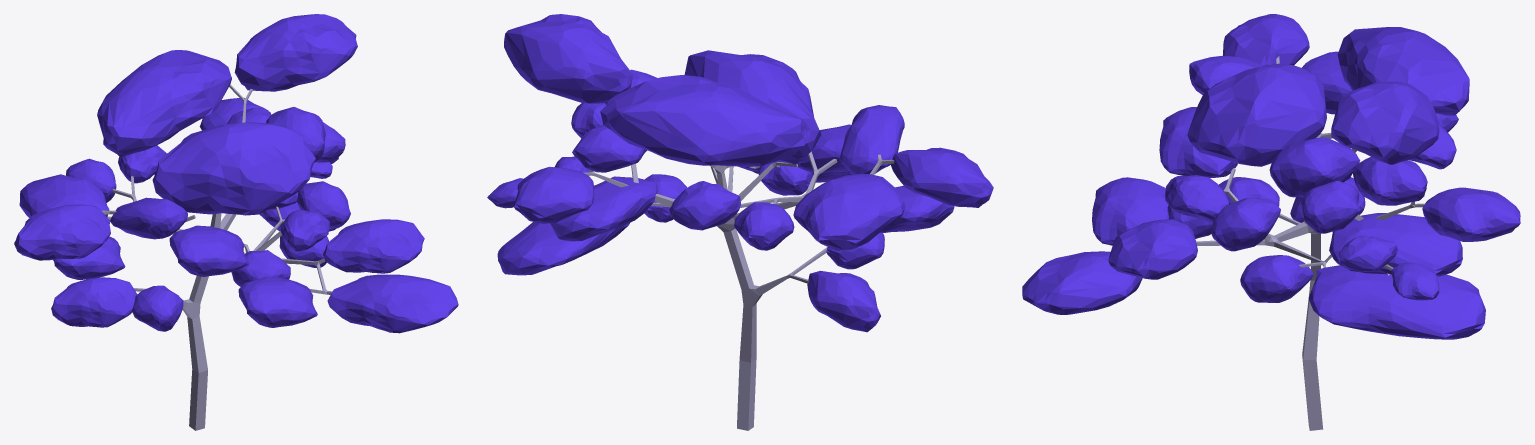
Rendered from LowPolyLavenderOak1.fbx.
3 renders of one model, left to right at view 1: azimuth 30°, elevation 25°; view 2: azimuth 150°, elevation 25°; view 3: azimuth 270°, elevation 25°, orthographic. The views are drawn at different scales.
Parts seen in each view (by area): view 1: Icosphere.030, Icosphere.039, Icosphere.031, Icosphere.029, Icosphere.040, Icosphere.043, Cube.001, Icosphere.008, Icosphere.032, Icosphere.041, Icosphere.050, Icosphere.044 (+13 smaller); view 2: Icosphere.039, Icosphere.031, Cube.001, Icosphere.050, Icosphere.030, Icosphere.043, Icosphere.047, Icosphere.048, Icosphere.046, Icosphere.044, Icosphere.008, Icosphere.045 (+9 smaller); view 3: Icosphere.030, Icosphere.046, Icosphere.039, Icosphere.031, Icosphere.029, Icosphere.047, Icosphere.040, Icosphere.048, Cube.001, Icosphere.037, Icosphere.032, Icosphere.043 (+13 smaller).
Part boxes in pixels (x1,y1,x2,y2): Icosphere.030: (152, 122, 315, 215); Icosphere.039: (97, 50, 231, 157); Icosphere.031: (234, 14, 357, 91); Icosphere.029: (327, 274, 458, 333); Icosphere.040: (323, 219, 424, 273); Icosphere.043: (14, 204, 110, 260); Cube.001: (102, 84, 332, 430); Icosphere.008: (51, 277, 137, 327); Icosphere.032: (238, 276, 317, 327); Icosphere.041: (169, 225, 248, 276); Icosphere.050: (19, 174, 109, 217); Icosphere.044: (110, 197, 187, 239); Icosphere.039: (600, 75, 808, 166); Icosphere.031: (504, 14, 632, 103); Cube.001: (583, 151, 894, 430); Icosphere.050: (793, 173, 905, 250); Icosphere.030: (684, 50, 821, 164); Icosphere.043: (891, 147, 993, 207); Icosphere.047: (550, 176, 657, 241); Icosphere.048: (514, 166, 594, 223); Icosphere.046: (497, 222, 630, 275); Icosphere.044: (839, 105, 904, 174); Icosphere.008: (807, 270, 880, 332); Icosphere.045: (669, 181, 740, 230); Icosphere.030: (1187, 63, 1326, 166); Icosphere.046: (1308, 265, 1485, 339); Icosphere.039: (1337, 27, 1469, 115); Icosphere.031: (1331, 81, 1439, 164); Icosphere.029: (1022, 251, 1142, 314); Icosphere.047: (1329, 213, 1462, 276); Icosphere.040: (1108, 219, 1197, 279); Icosphere.048: (1422, 187, 1520, 241); Cube.001: (1196, 56, 1425, 430); Icosphere.037: (1269, 137, 1360, 197); Icosphere.032: (1092, 177, 1168, 245); Icosphere.043: (1222, 14, 1309, 65).
Bounding box in the file's own units: 1283 × 1118 × 1216.
